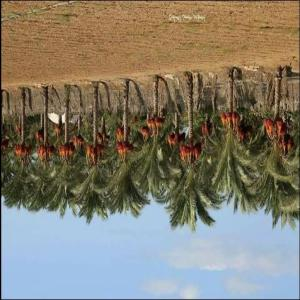palm tree: (1, 66, 299, 232)
